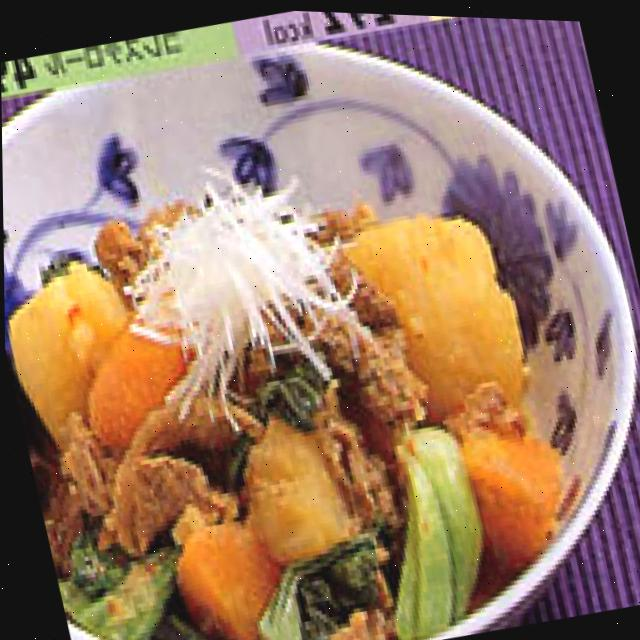牛肉菜式: (1, 74, 620, 640)
